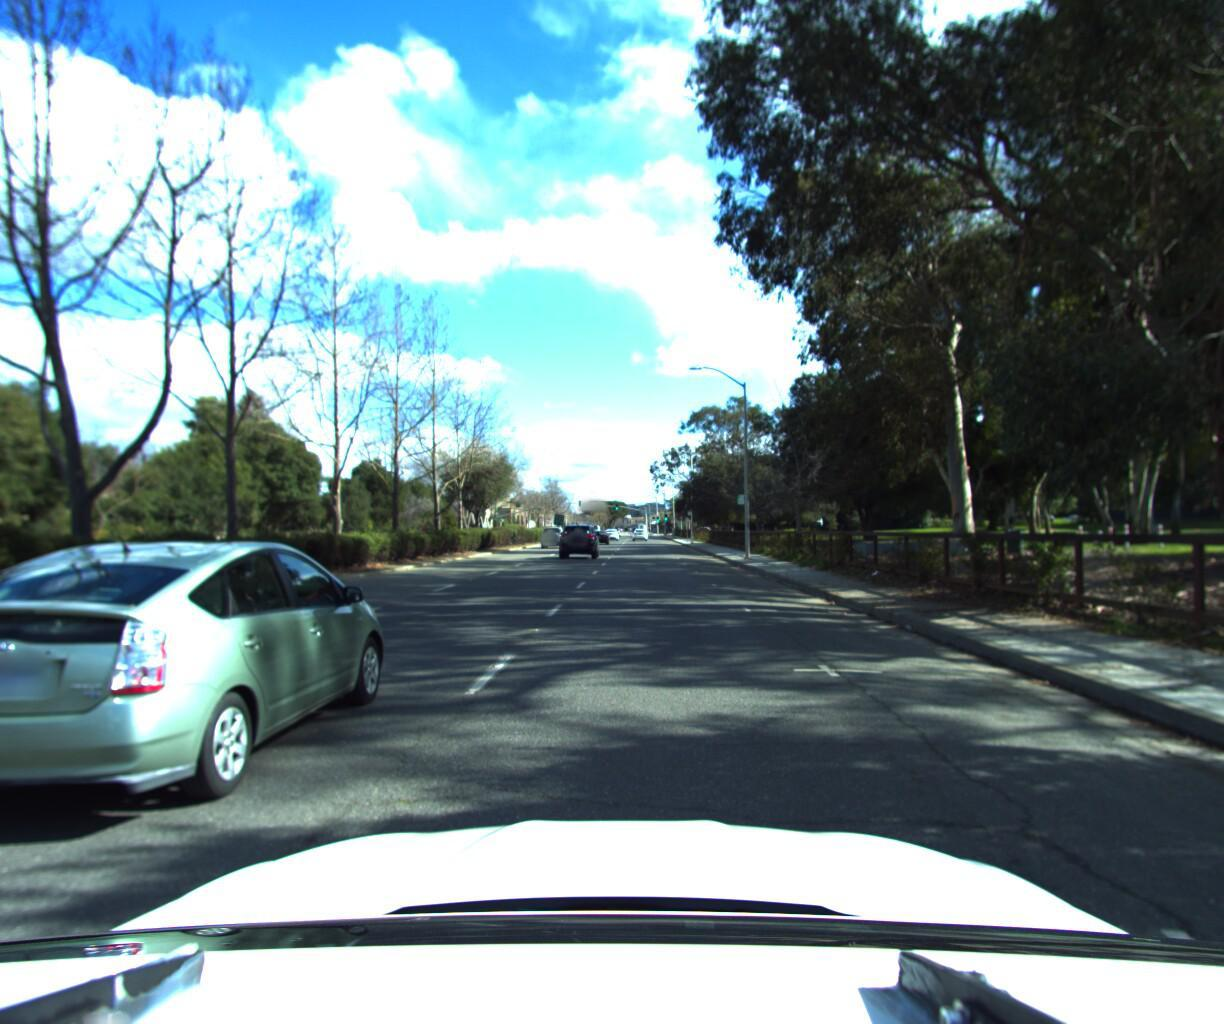car: (0, 530, 404, 857), (555, 521, 600, 558), (539, 524, 568, 548)
